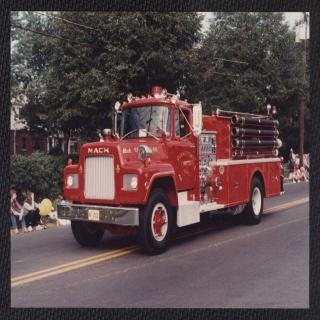Fire_truck: (57, 85, 285, 255)
